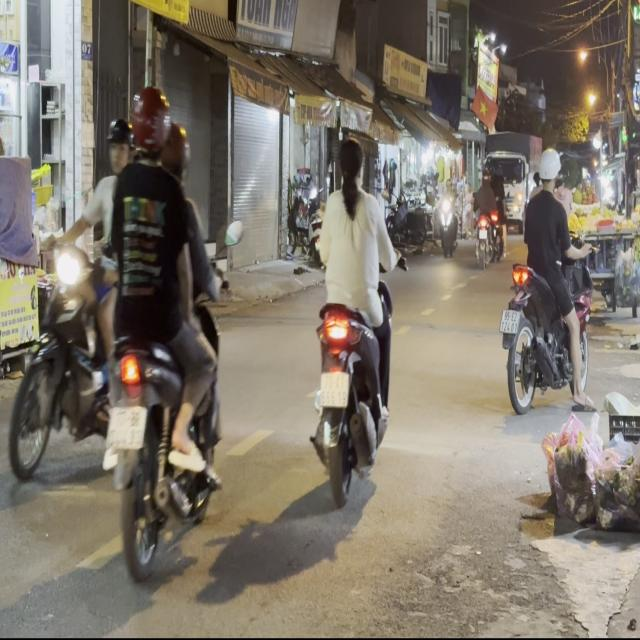helmet: (127, 84, 171, 162), (158, 115, 188, 182), (105, 114, 131, 171), (536, 146, 561, 190)
licenseplate: (98, 81, 226, 586), (4, 94, 120, 489), (307, 132, 398, 505), (498, 144, 595, 414)
motorcyclist: (336, 136, 364, 188)
nohelmet: (106, 406, 146, 447), (319, 371, 348, 405), (499, 309, 522, 332)
